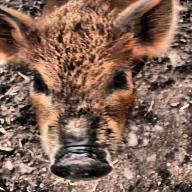boar: (4, 10, 166, 192)
